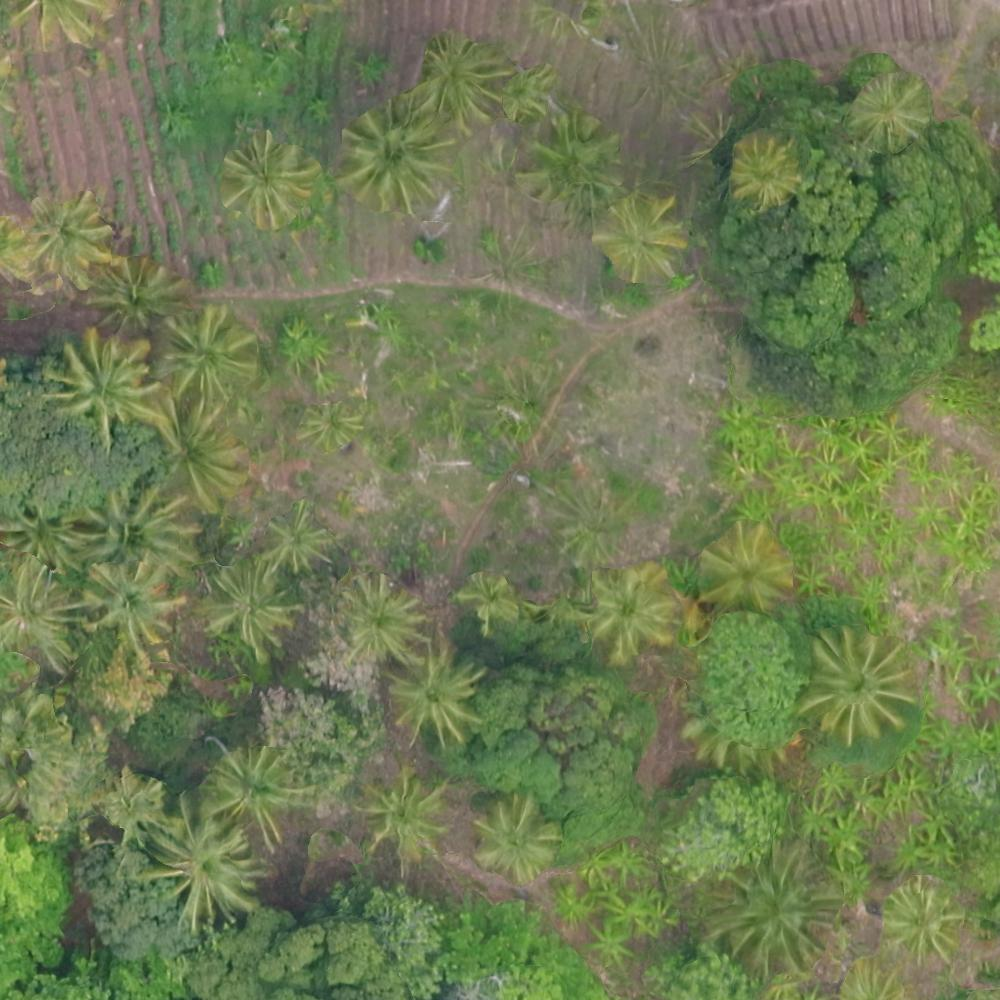Palm: (713, 843, 834, 965), (144, 798, 257, 926), (802, 629, 915, 741), (343, 102, 447, 213), (150, 392, 250, 506), (86, 488, 192, 580), (55, 333, 150, 432), (83, 565, 187, 654), (391, 650, 486, 744), (528, 113, 622, 208), (216, 743, 307, 840), (333, 576, 427, 669), (3, 561, 80, 674), (160, 305, 255, 396), (203, 558, 295, 651), (416, 30, 505, 124), (365, 768, 454, 859), (226, 138, 315, 226), (699, 527, 790, 613), (592, 192, 682, 278), (582, 568, 670, 652), (27, 195, 110, 282), (88, 252, 179, 331), (474, 797, 554, 876), (883, 880, 961, 959), (853, 75, 931, 145), (729, 132, 802, 205), (268, 502, 330, 573)
